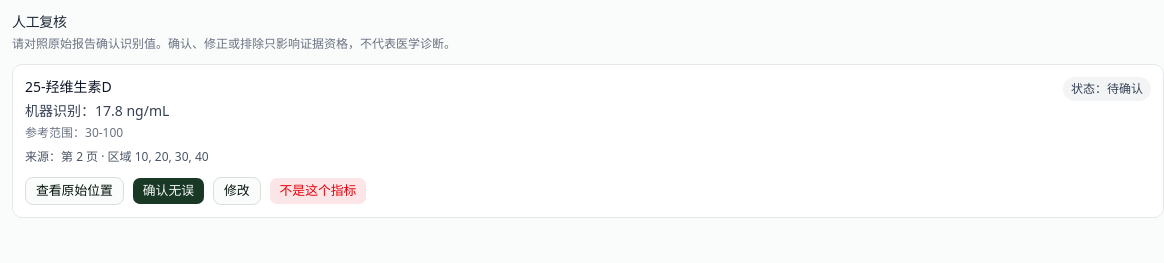
Test: HealthDocumentReviewPanel › rejects a candidate through the append-only action and preserves a visible history
This screenshot has width=1164, height=263.
Click the button "不是这个指标" at (318, 191), box [269,177,367,205]
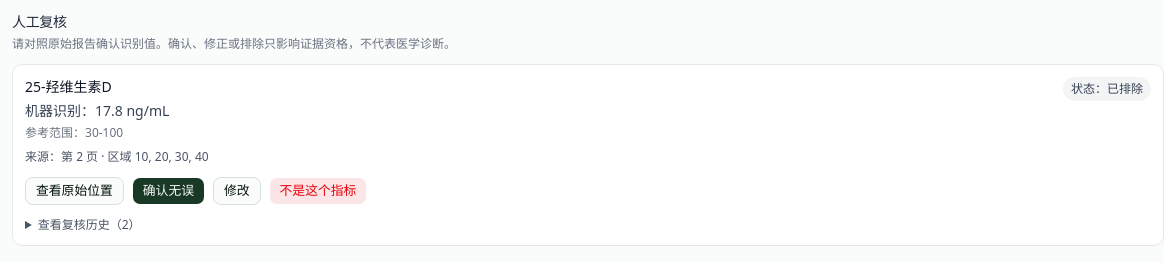
Result: the text "状态：已排除" is shown at [1063,77,1151,101]
Result: the heading "查看复核历史（2）" is shown at [38,216,141,233]
